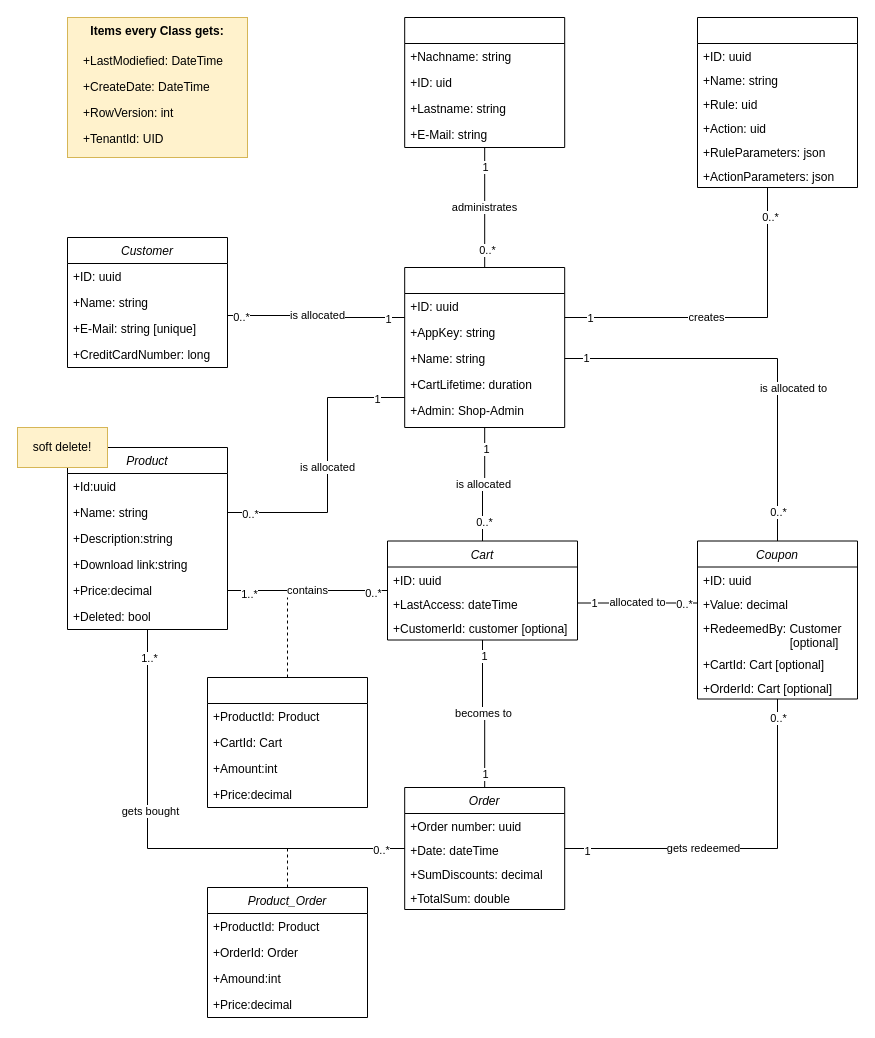
This 875x1038 diagram has some shape labels left out. The shapes that lost their labels are listed below. From the top down, each one's box as (x1, y1, x2, y2) in pixels, then its label:
(404, 16, 565, 148): Shop-Admin
(696, 16, 858, 188): DiscountSetting
(404, 266, 565, 428): Shop (Tenant)
(206, 676, 368, 808): Product_Cart
